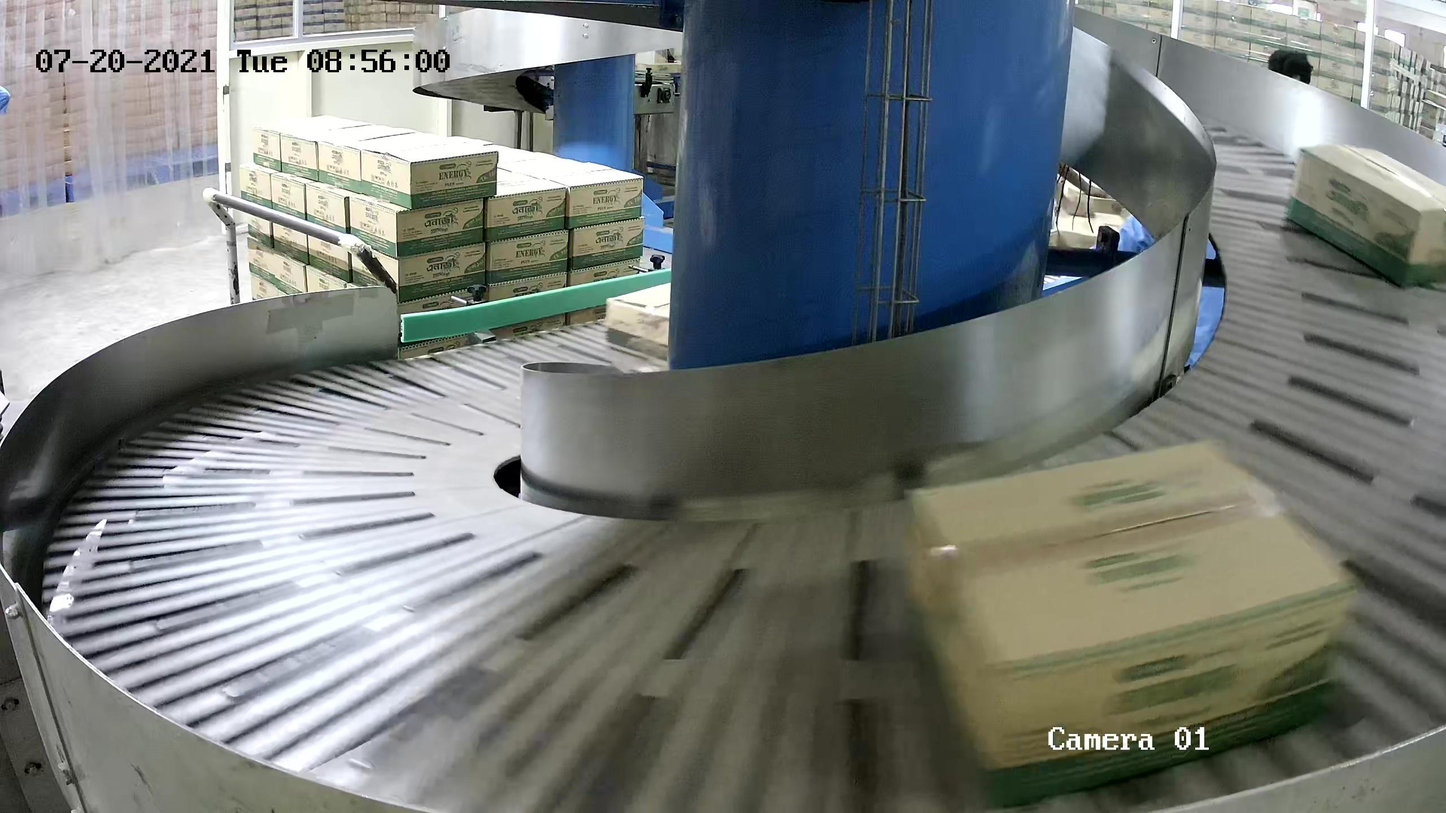Box: (900, 434, 1361, 813), (1284, 140, 1446, 290), (603, 281, 671, 366)
